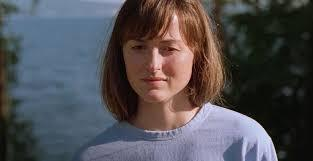Persons: (101, 0, 229, 118)
